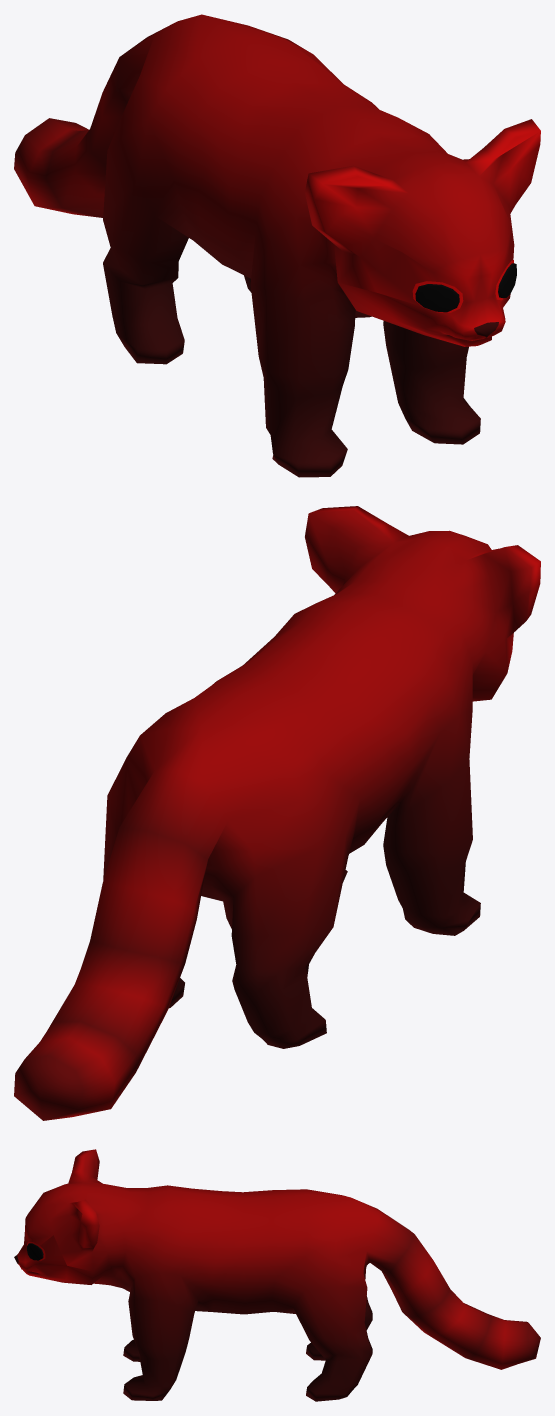
File: Animals_RedPanda.fbx
3 renders of one model, top to bottom at view 1: azimuth 30°, elevation 25°; view 2: azimuth 150°, elevation 25°; view 3: azimuth 270°, elevation 25°, orthographic. The views are drawn at different scales.
Visible parts, largest first — view 1: base; view 2: base; view 3: base.
Part boxes in pixels (x1=…): base: x1=14, y1=14, x2=540, y2=477; base: x1=14, y1=506, x2=540, y2=1120; base: x1=14, y1=1149, x2=540, y2=1401.
Bounding box in the file's own units: 26.98 × 38.54 × 93.34.
